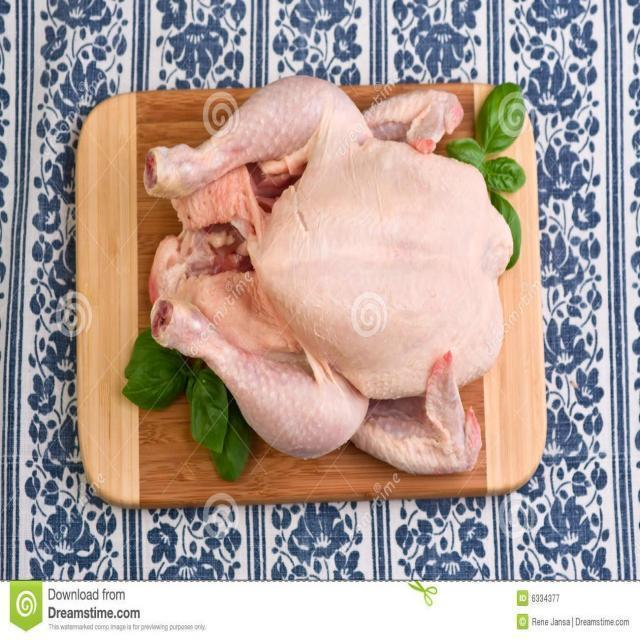chicken: (147, 76, 512, 475)
